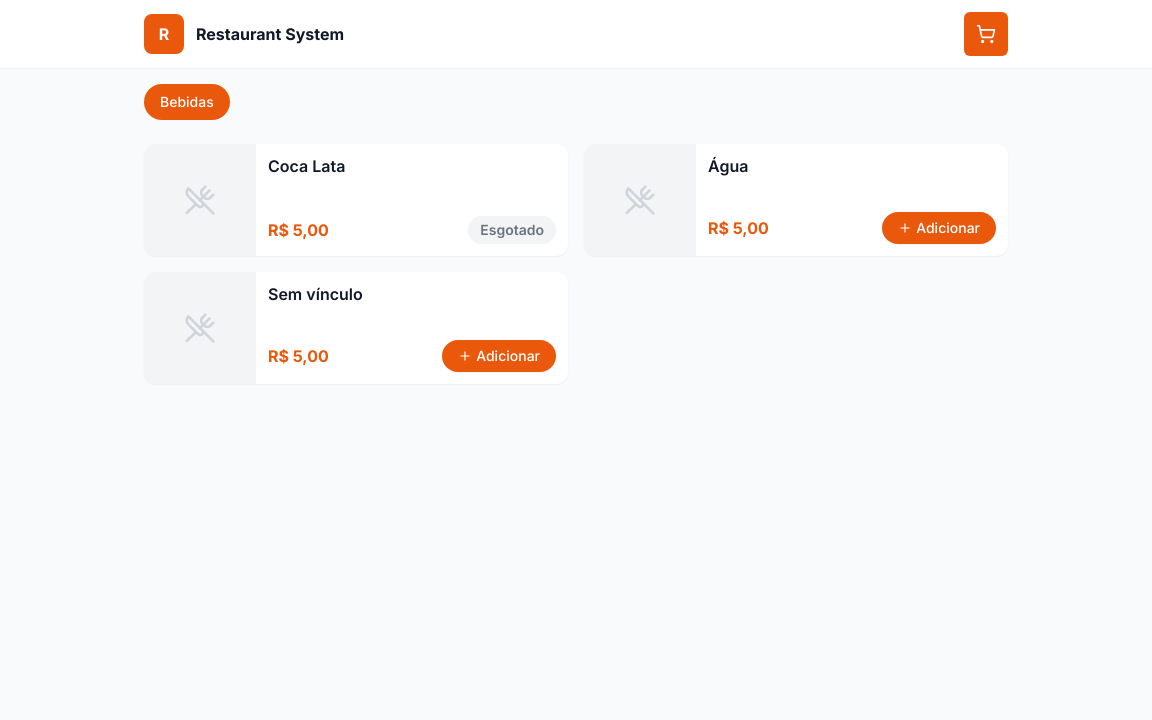
Scenario: public checkout with the cash register closed › does not treat a network failure or another refusal as a closed register
Click the button "Adicionar" below "Água".
click(939, 228)  # box [882,212,996,244]
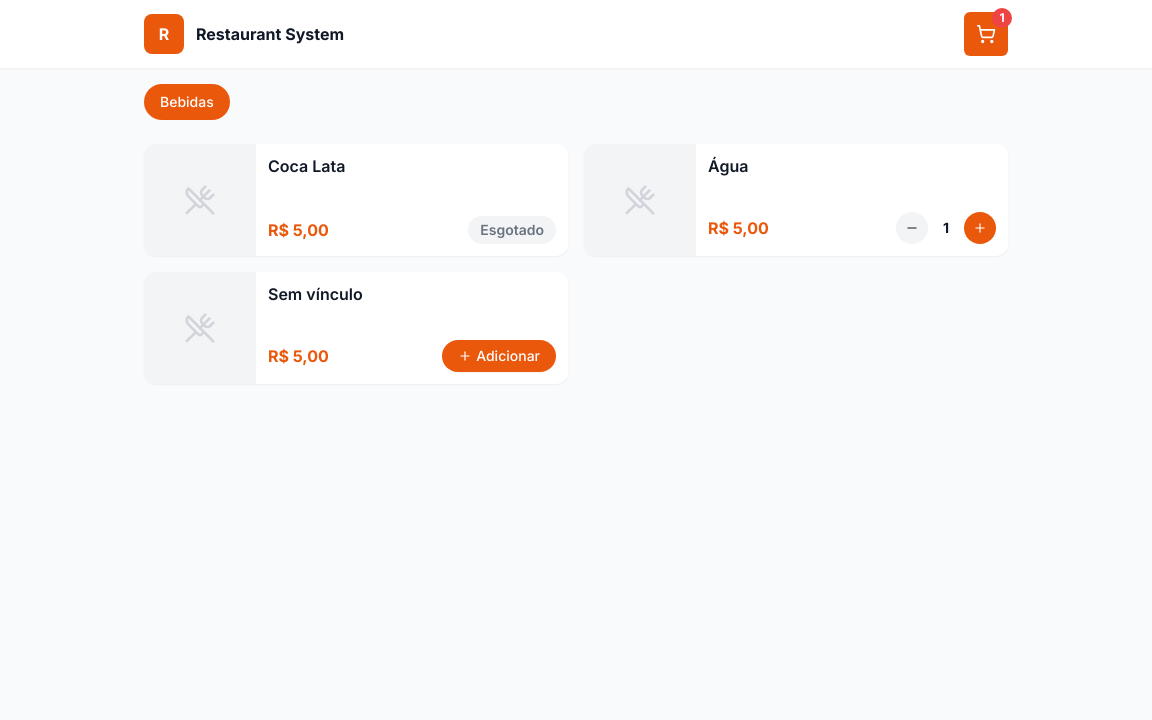
Click the button named "Abrir carrinho".
click(986, 34)  # box [964,12,1008,56]
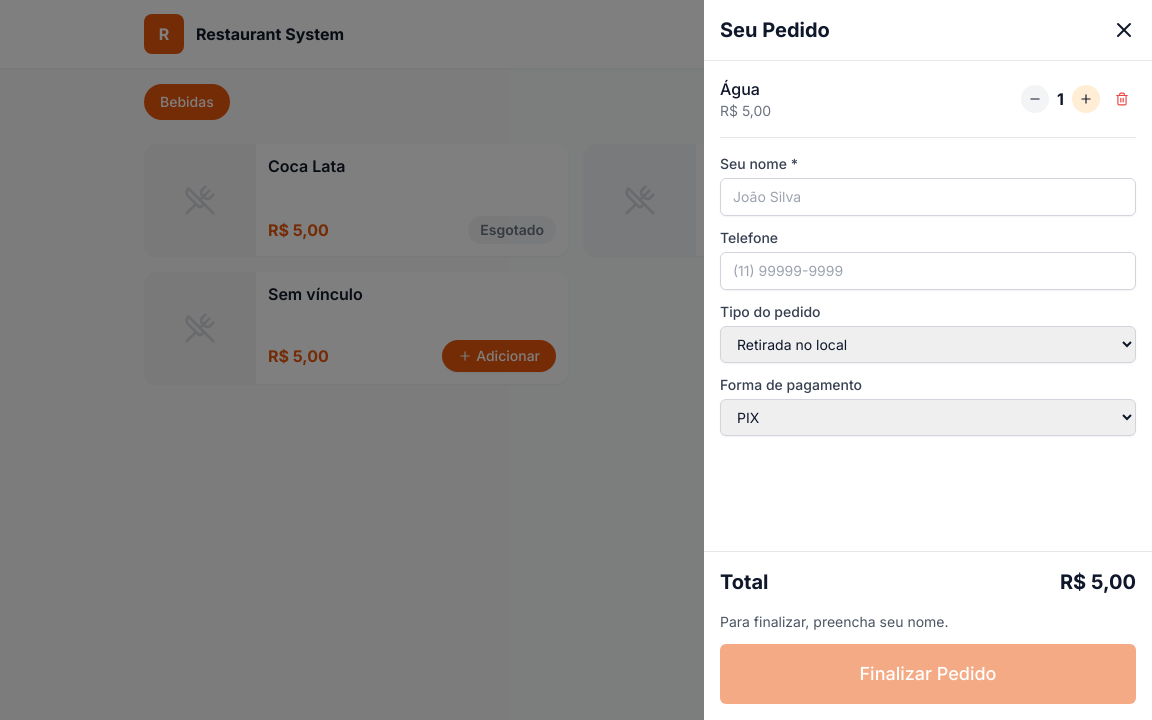
Type "Cliente" into the field labelled "Seu nome".
click(928, 197); type("Cliente")  # box [720,178,1136,216]
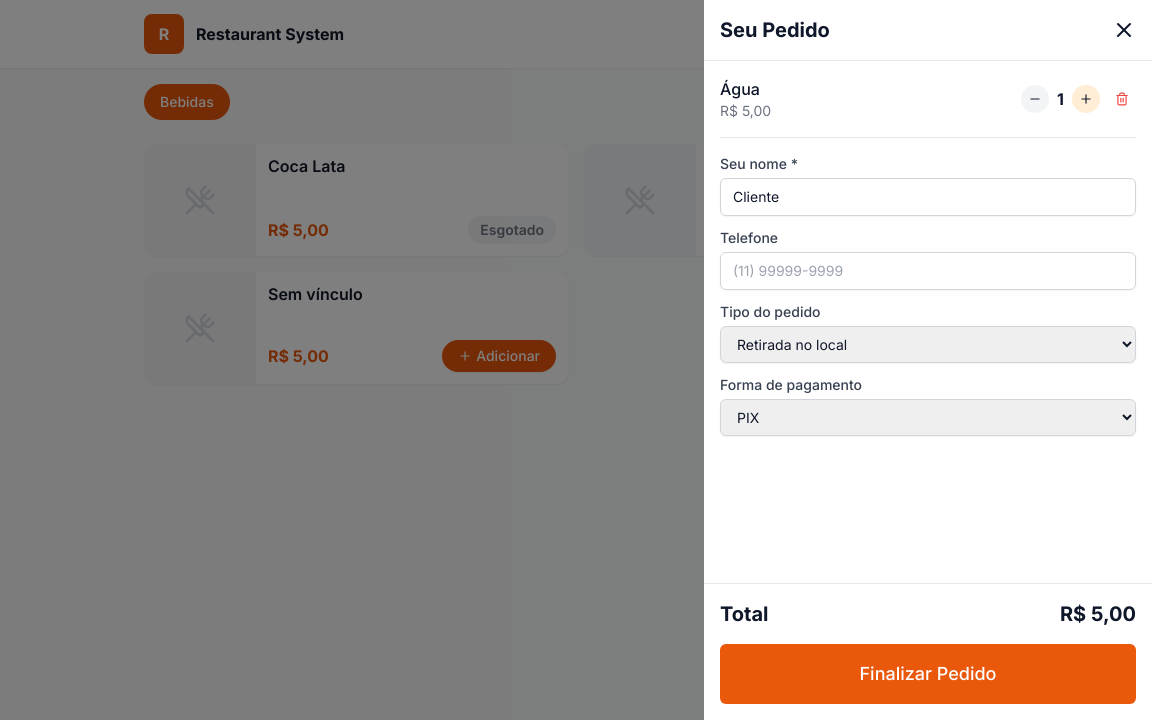
Click the button "Finalizar Pedido".
click(928, 674)  # box [720,644,1136,704]
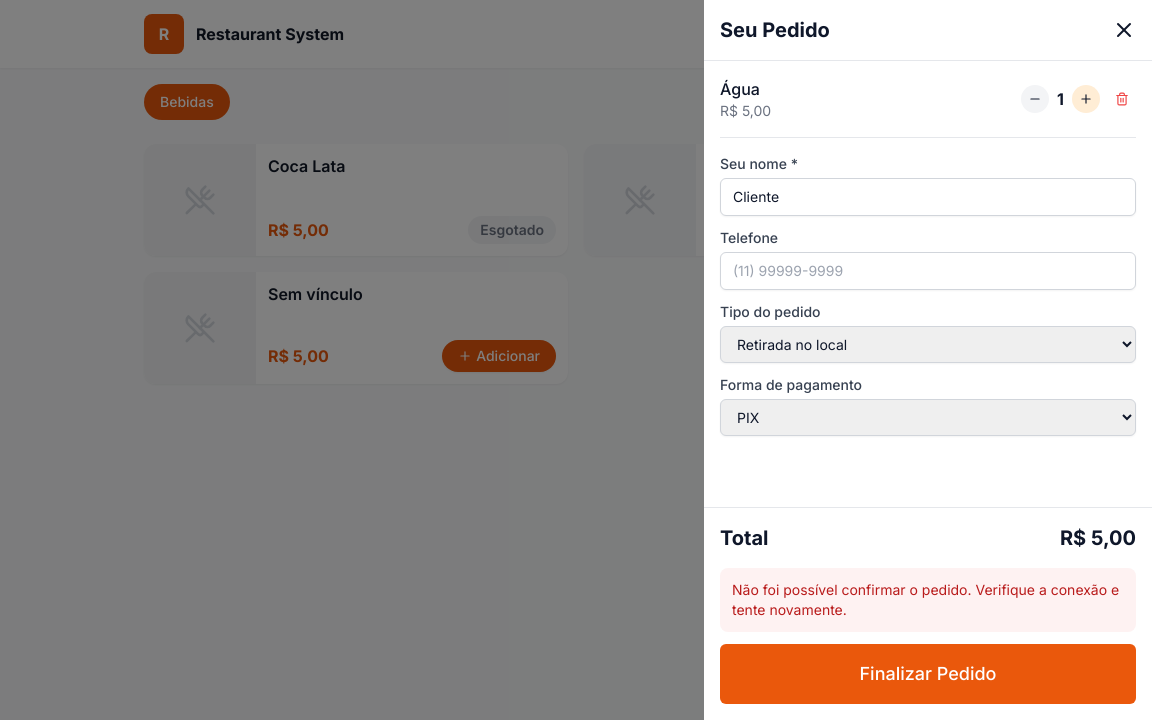
Result: the message reads "Não foi possível confirmar o pedido. Verifique a conexão e tente novamente." at [732,581,1119,618]
Click the button "Finalizar Pedido".
click(928, 674)  # box [720,644,1136,704]
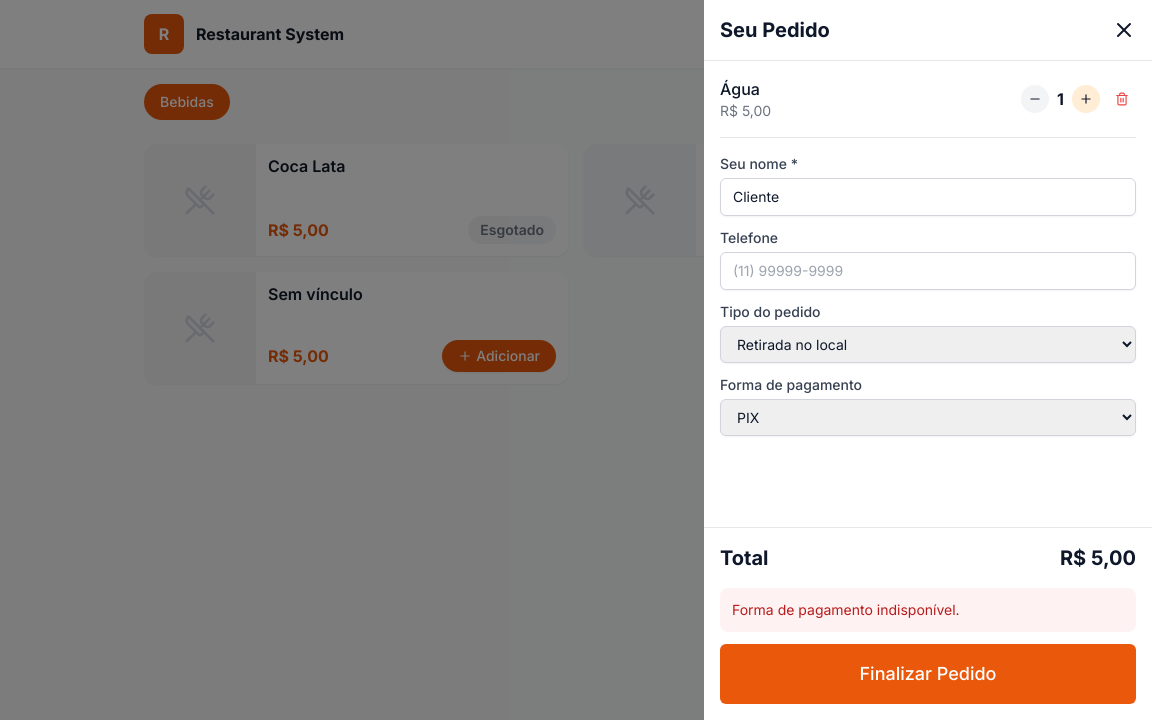
Result: the message reads "Forma de pagamento indisponível." at [732,601,960,618]
